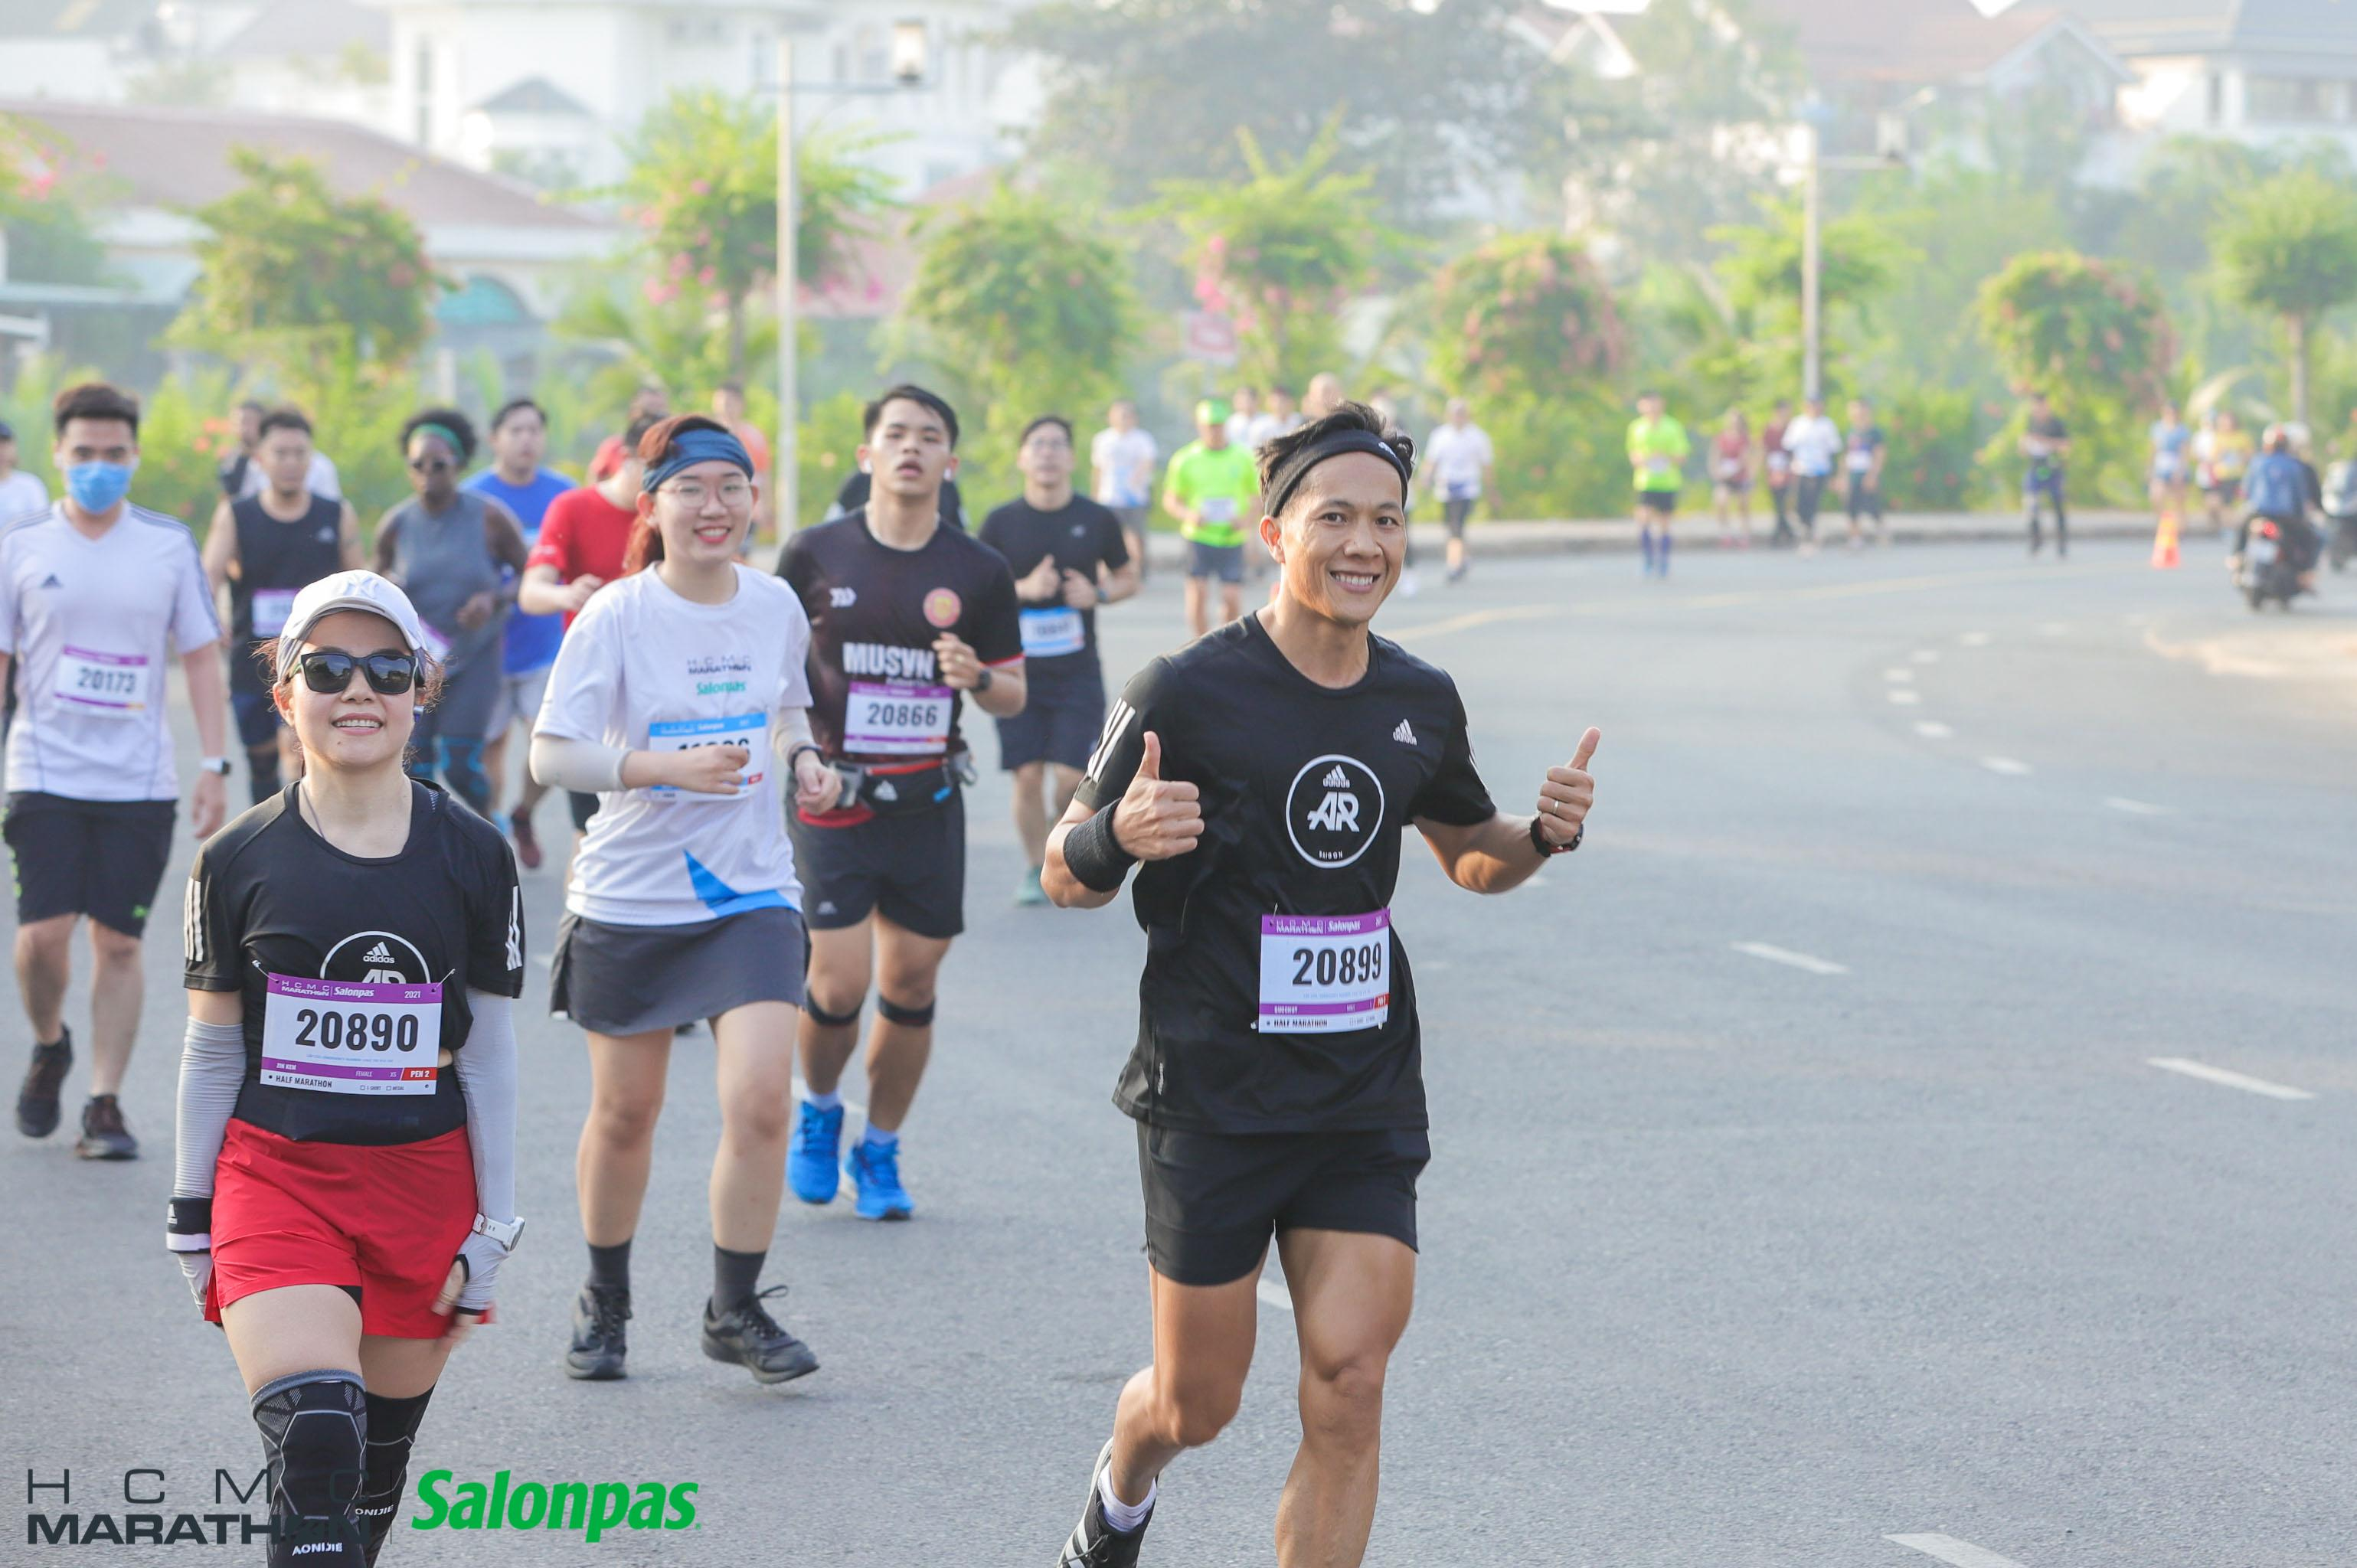bib: (262, 973, 437, 1102), (1255, 912, 1398, 1034), (52, 642, 154, 717), (845, 681, 945, 756), (646, 723, 766, 784), (1020, 611, 1087, 661), (250, 590, 290, 640)
